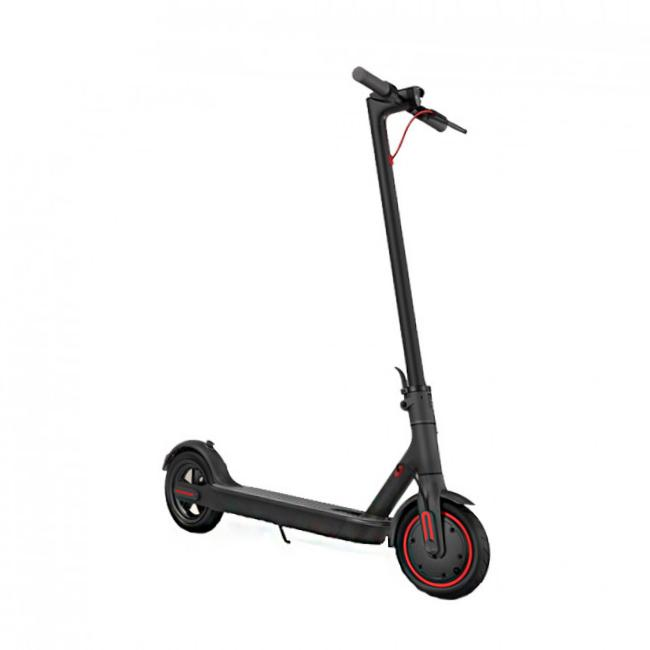scooter: (163, 67, 491, 599)
